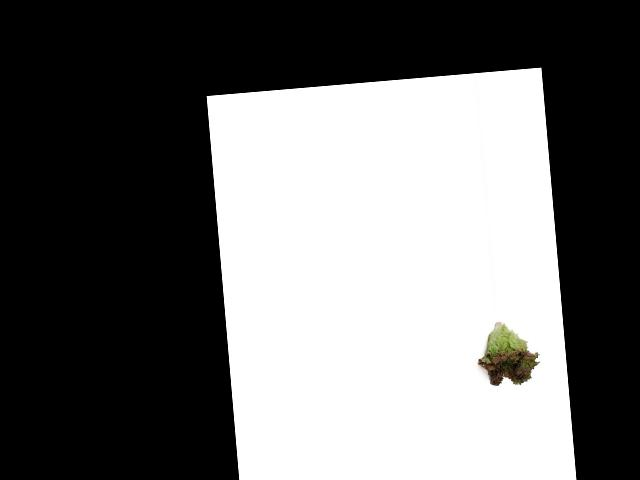lettuce: (469, 317, 544, 396)
